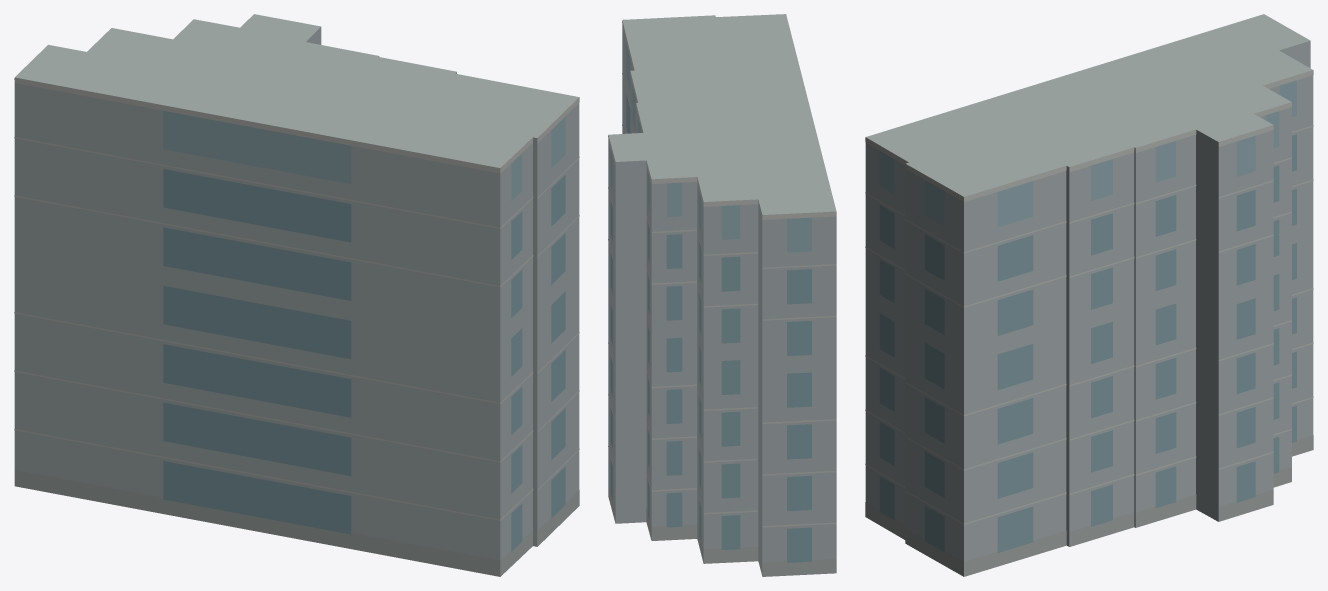
Rendered from survey-upis-32764206.glb.
3 renders of one model, left to right at view 1: azimuth 30°, elevation 25°; view 2: azimuth 150°, elevation 25°; view 3: azimuth 270°, elevation 25°, orthographic. The views are drawn at different scales.
Parts seen in each view (by area): view 1: survey-upis-32764206.tmp; view 2: survey-upis-32764206.tmp; view 3: survey-upis-32764206.tmp.
Boxes of the visible parts, x1,y1,x2,y2 form: survey-upis-32764206.tmp: (14,14,579,576); survey-upis-32764206.tmp: (608,14,836,576); survey-upis-32764206.tmp: (865,14,1313,576).
Bounding box in the file's own units: 18.82 × 18.2 × 19.47.
